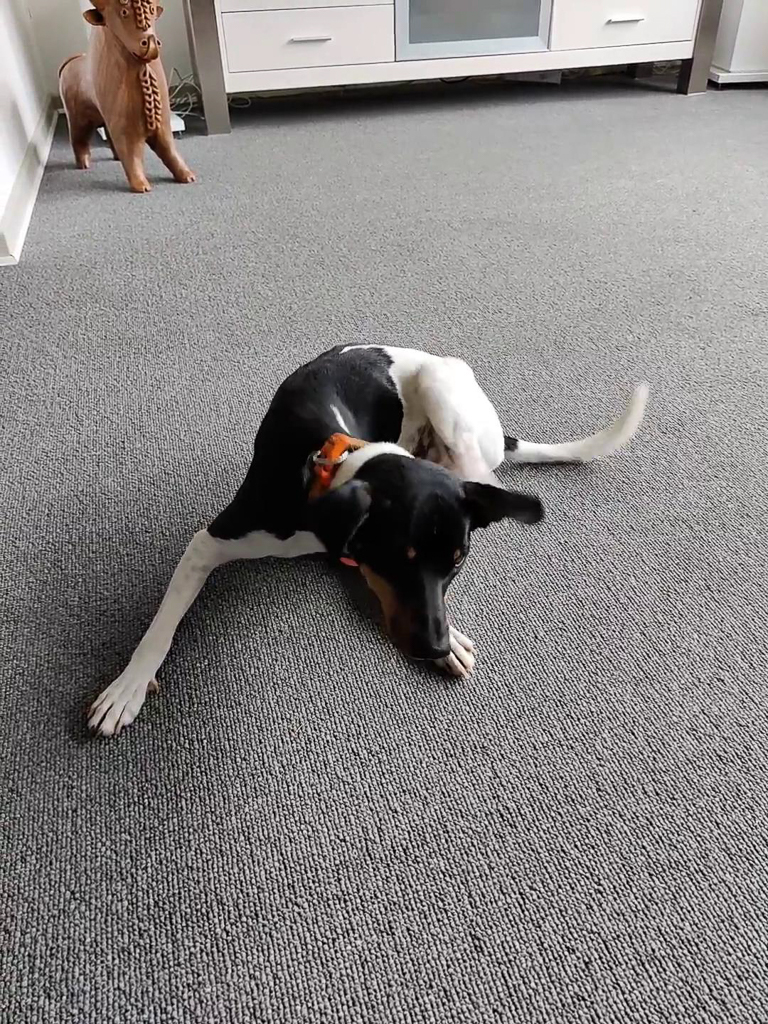Cattle: (49, 0, 207, 203)
Dog: (58, 326, 680, 754)
